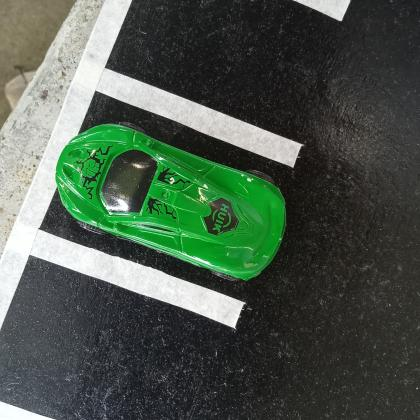Car: (55, 122, 286, 283)
